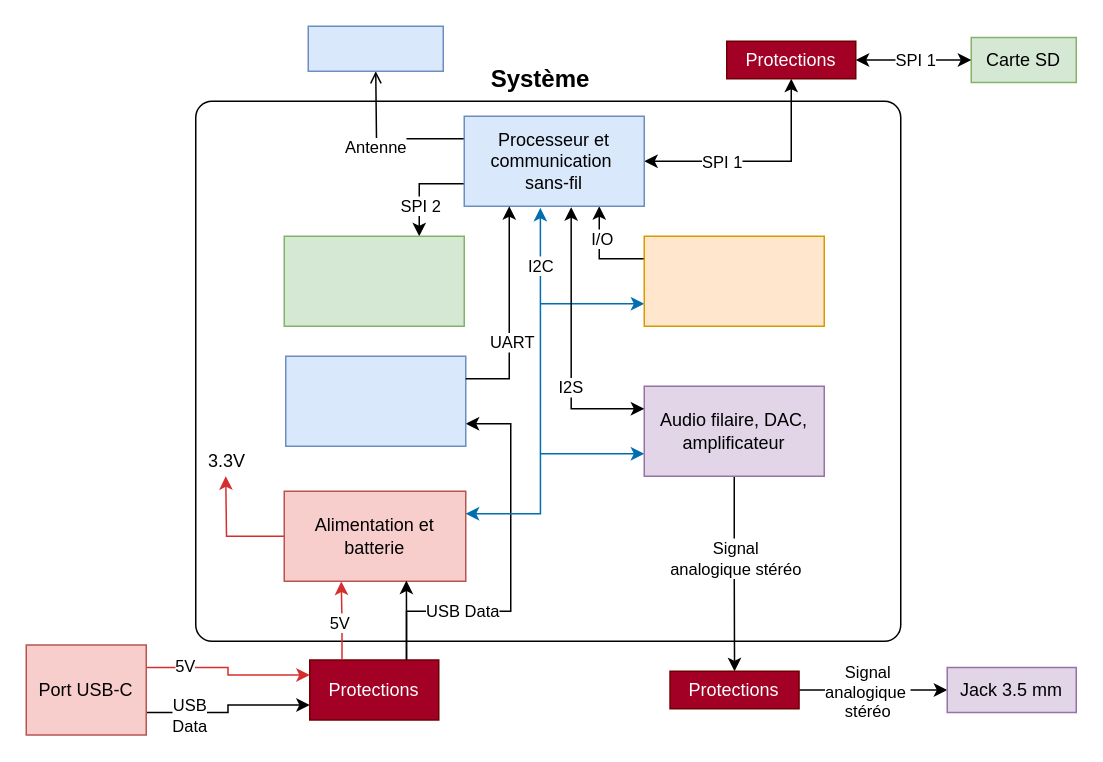
This 1103x762 diagram has some shape labels left out. The shapes that lost their labels are listed below. From the top down, each one's centre as x and y in pixels, then its label:
At pixel 375 48: "Bluetooth".
At pixel 373 280: "Affichage, écran, interface utilisateur visuelle".
At pixel 733 280: "Boutons, interface utilisateur physique et I/O expander".
At pixel 375 400: "Pont USB vers UART".
